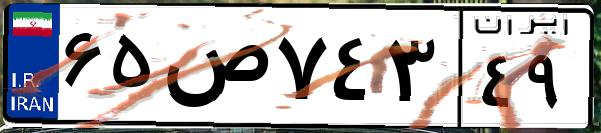3: (385, 28, 445, 110)
4: (330, 28, 385, 110), (475, 38, 525, 113)
5: (110, 28, 158, 98)
6: (57, 26, 110, 100)
7: (270, 28, 330, 110)
9: (525, 38, 570, 115)
ص: (158, 20, 270, 120)
